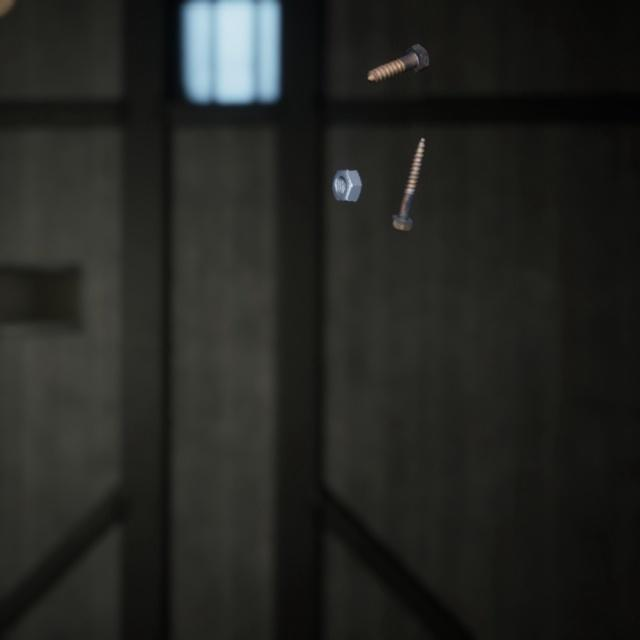bolt: (385, 119, 429, 222), (362, 30, 433, 78)
nut: (328, 151, 368, 192)
